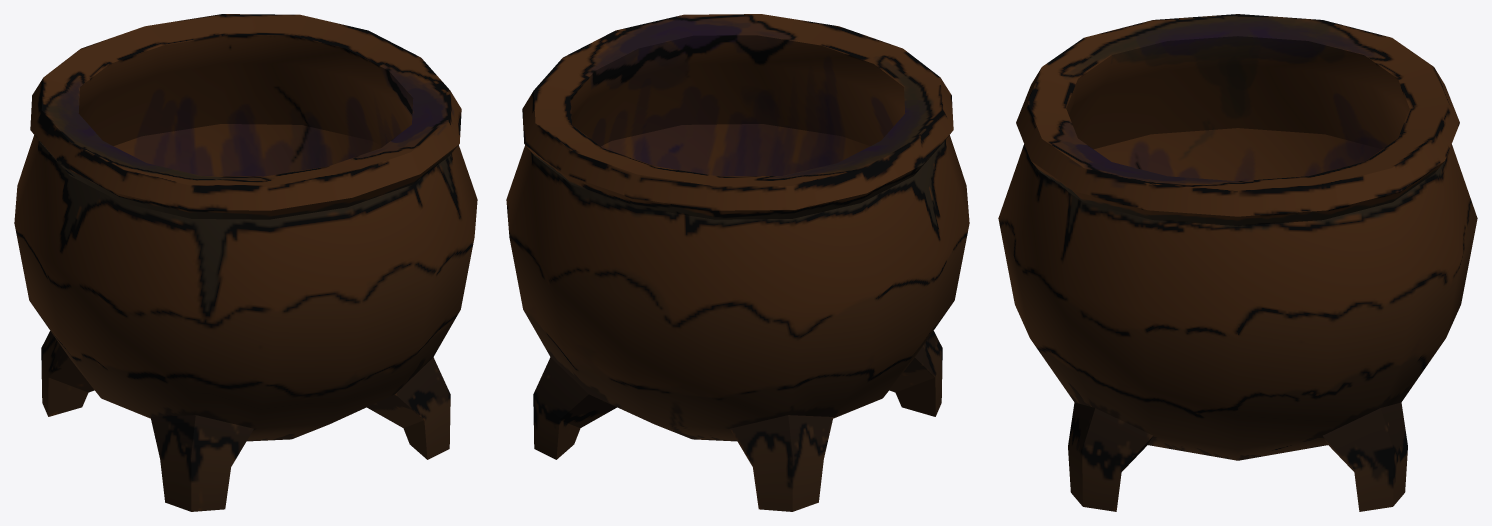
The model's file is Cauldron_lines.fbx.
3 views of the same model, side by side, from view 1: azimuth 30°, elevation 25°; view 2: azimuth 150°, elevation 25°; view 3: azimuth 270°, elevation 25° (orthographic). The views are drawn at different scales.
Visible parts, largest first — view 1: Cauldron_Lined; view 2: Cauldron_Lined; view 3: Cauldron_Lined.
Part boxes in pixels (x1=…): Cauldron_Lined: x1=14, y1=14, x2=477, y2=511; Cauldron_Lined: x1=506, y1=14, x2=969, y2=511; Cauldron_Lined: x1=998, y1=14, x2=1477, y2=511.
Bounding box in the file's own units: 151 × 151 × 118.
Materials: 1 (1 with a texture image).
